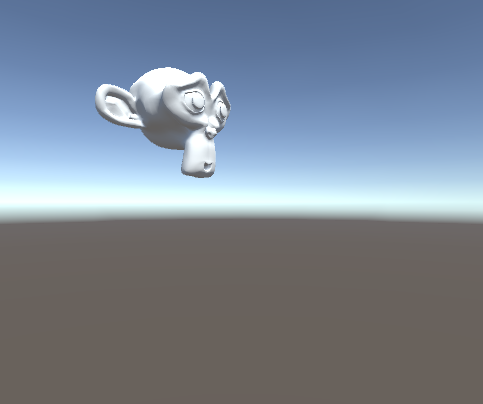monkey: (92, 65, 232, 180)
